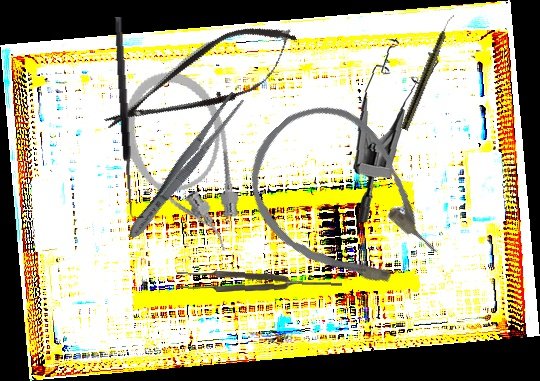Cannula: (222, 81, 465, 324), (108, 58, 258, 270)
Dressing Forceps: (122, 88, 247, 245)
Handpiece: (400, 12, 456, 132)
Hook Surgical: (112, 16, 146, 219)
Micro Scissor: (93, 7, 309, 154)
Speculum: (346, 36, 448, 223)
Tissue Forceps: (176, 269, 343, 296)
